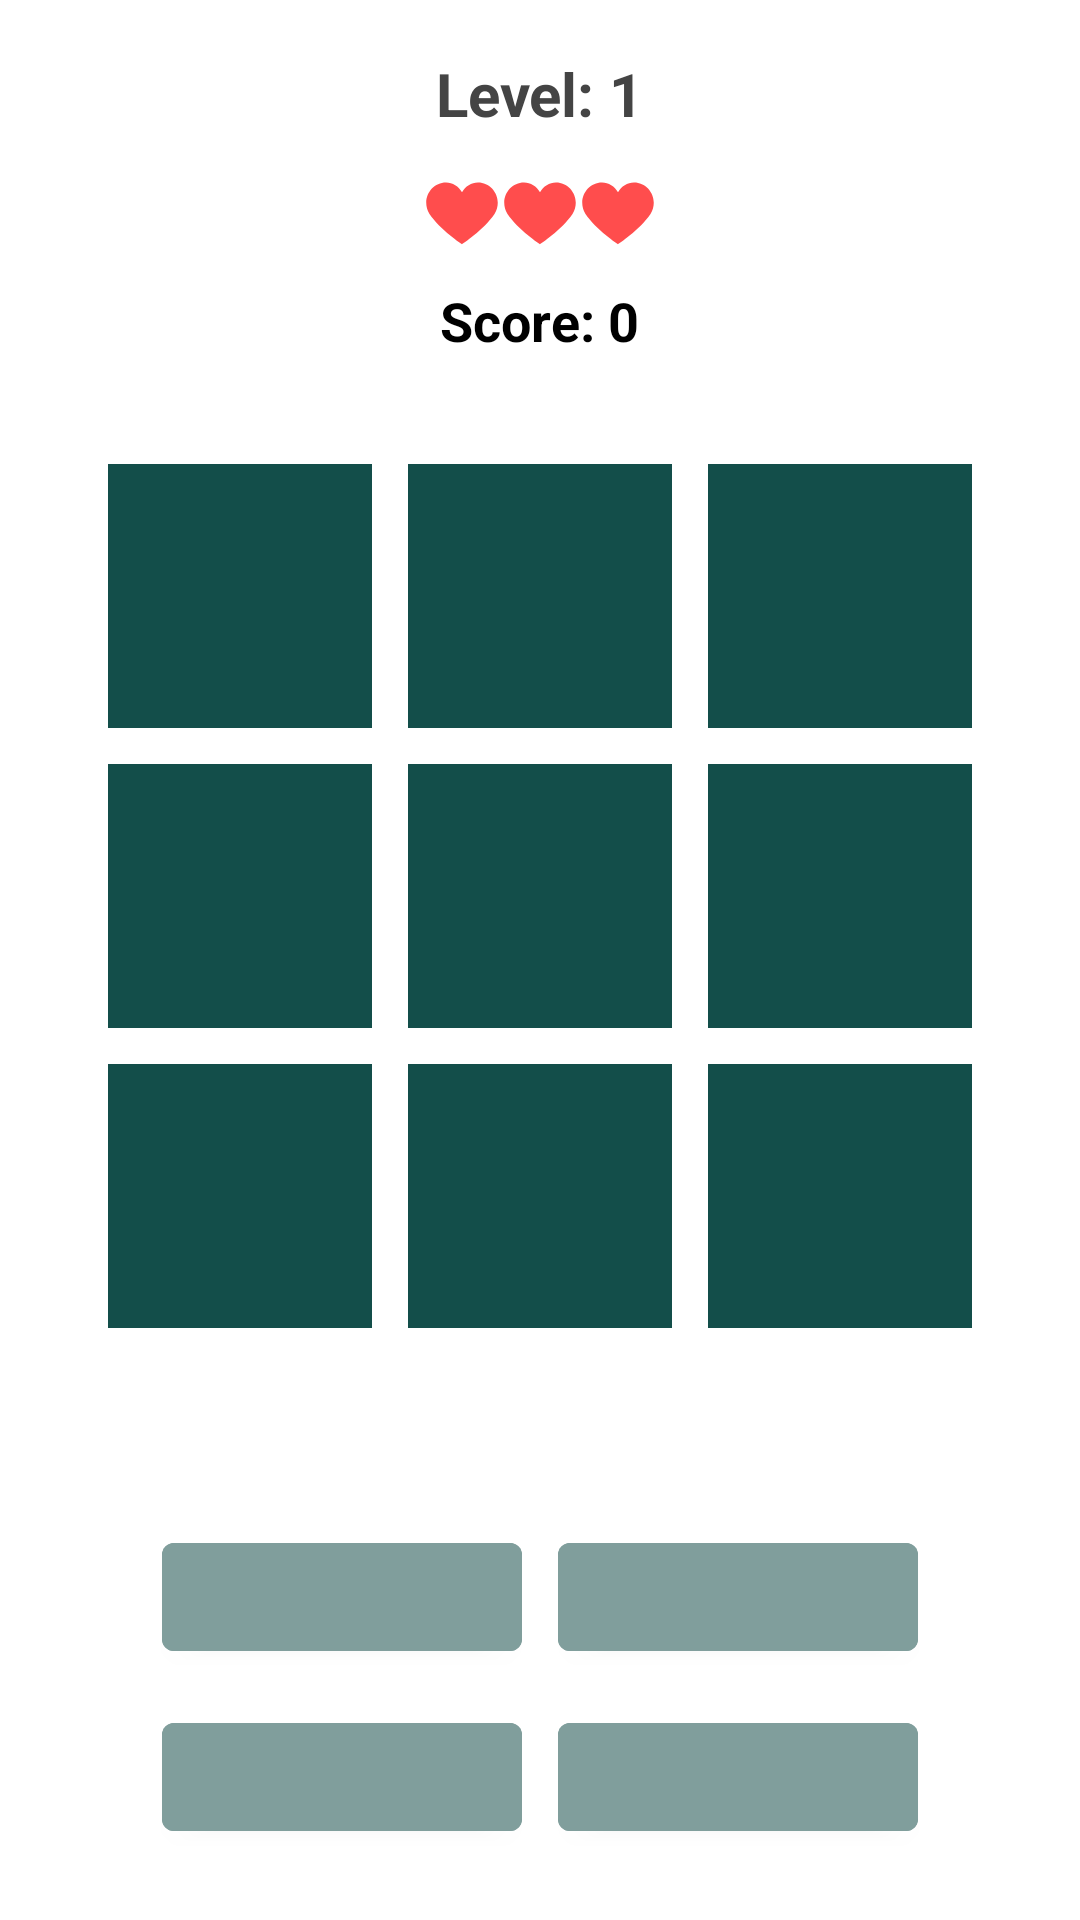

Named icons in this screenshot (1080px x 1920px) and their centers, [x,y]:
heart full: [462,213], [540,213], [618,213]
